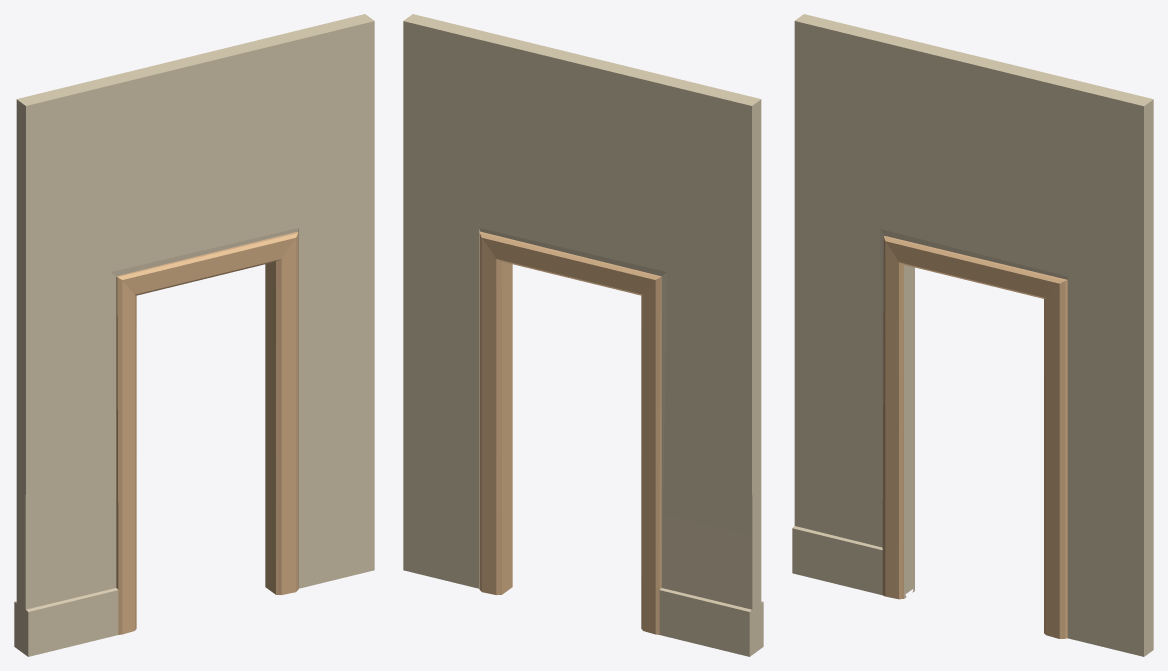
The model's file is Pared Puerta animada.fbx.
The picture shows the model from 3 angles, left to right: view 1: azimuth 30°, elevation 25°; view 2: azimuth 150°, elevation 25°; view 3: azimuth 330°, elevation 25°; orthographic projection.
Parts seen in each view (by area): view 1: Pared Puerta; view 2: Pared Puerta; view 3: Pared Puerta.
Boxes of the visible parts, bbox=[...] form: Pared Puerta: bbox=[14, 14, 374, 656]; Pared Puerta: bbox=[403, 14, 763, 656]; Pared Puerta: bbox=[792, 14, 1153, 656].
Size of the model in its own units: 2.05 by 3.09 by 0.1551.
